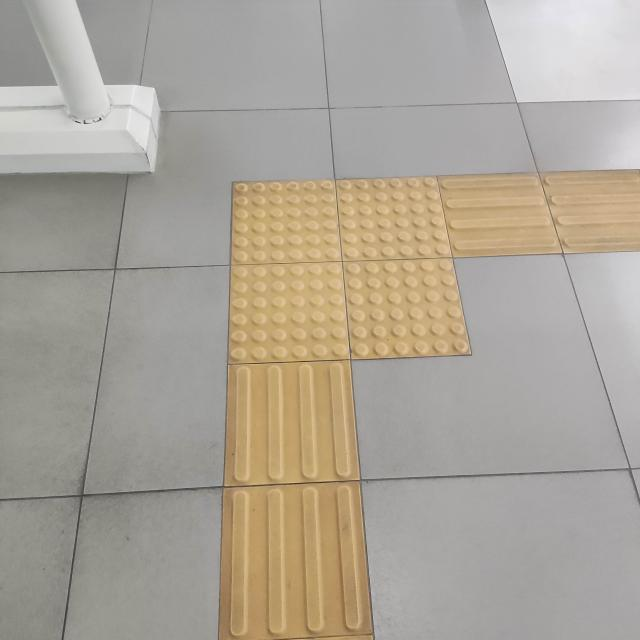kanan: (162, 116, 640, 436)
